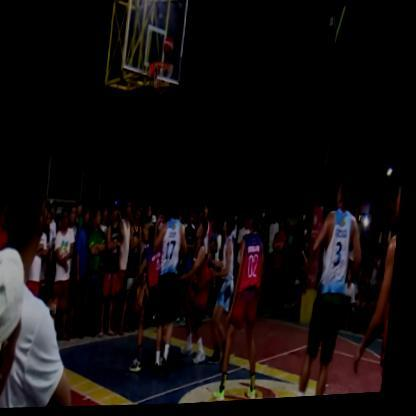basketball: (163, 38, 177, 61)
rim: (143, 53, 178, 113)
